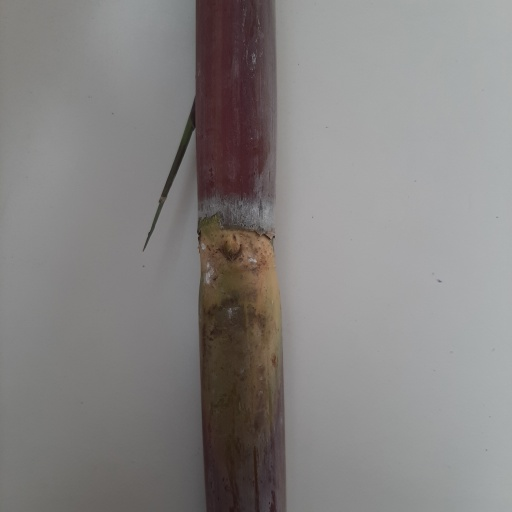Bud: (218, 233, 243, 266)
